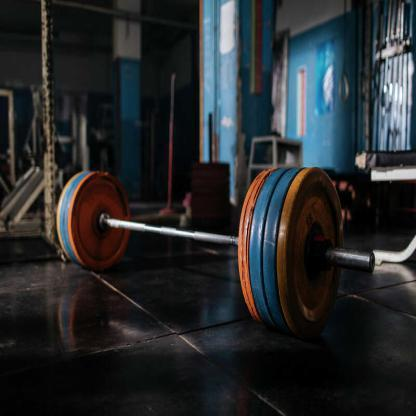Barbell: (366, 247, 384, 285)
